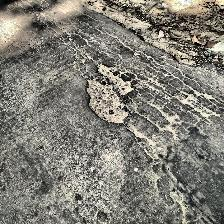pothole: (84, 63, 136, 123)
